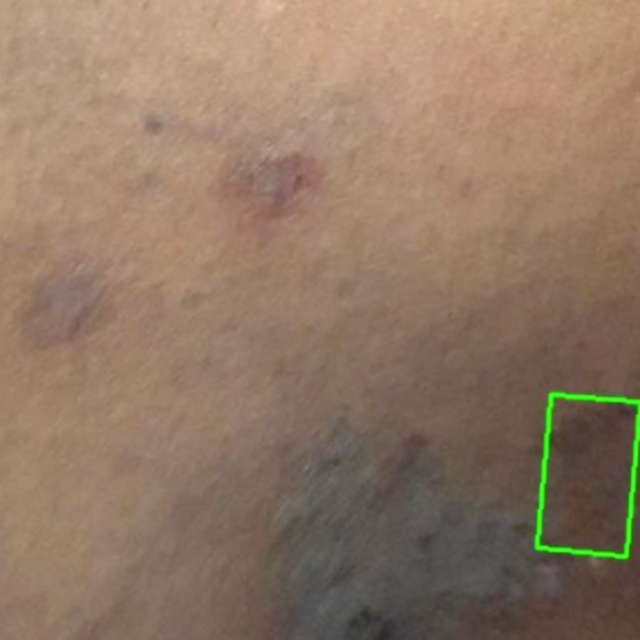Contact Dermatitis: (536, 394, 639, 557)
